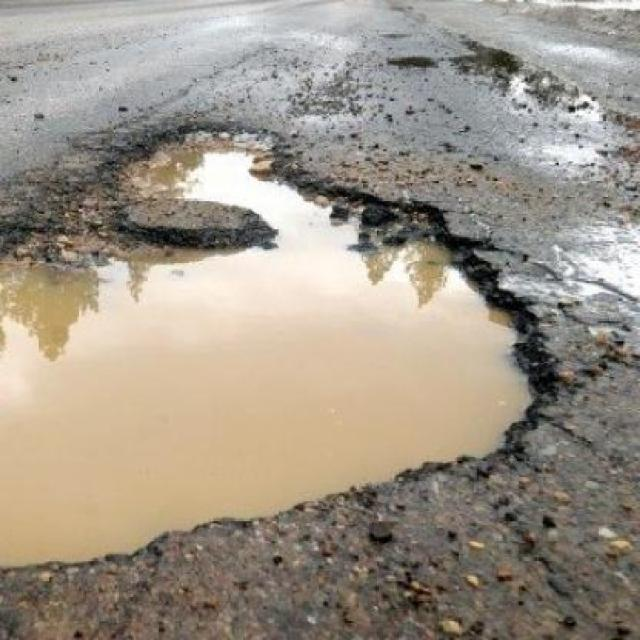pothole: (1, 116, 572, 578)
